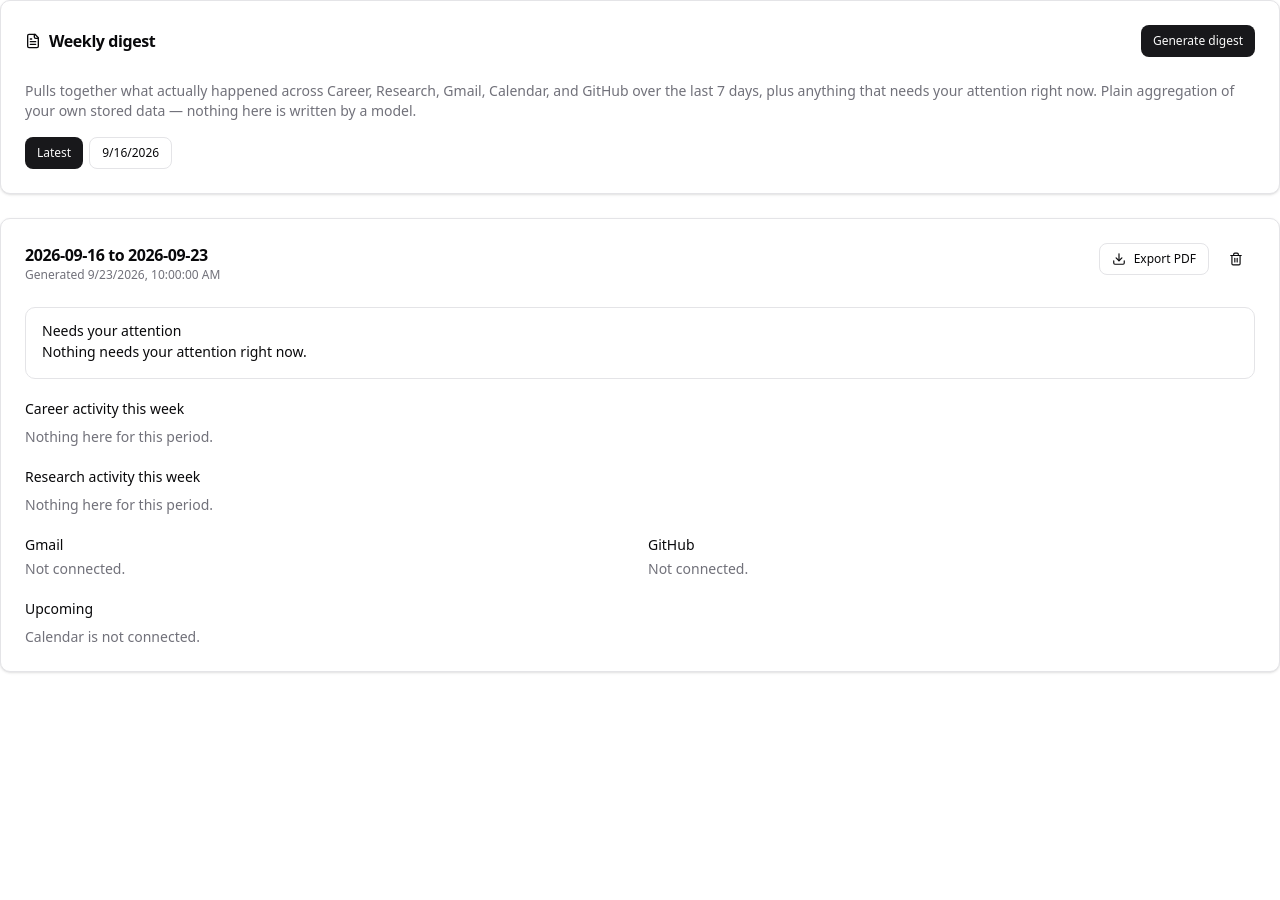
it: DigestPanel › switches between past digests
Check: the button "Latest" is shown, box [25,137,83,169]
Check: the heading "2026-09-16 to 2026-09-23" is shown, box [25,243,220,267]
Click the button "9/16/2026": (131, 153) [89,137,172,169]
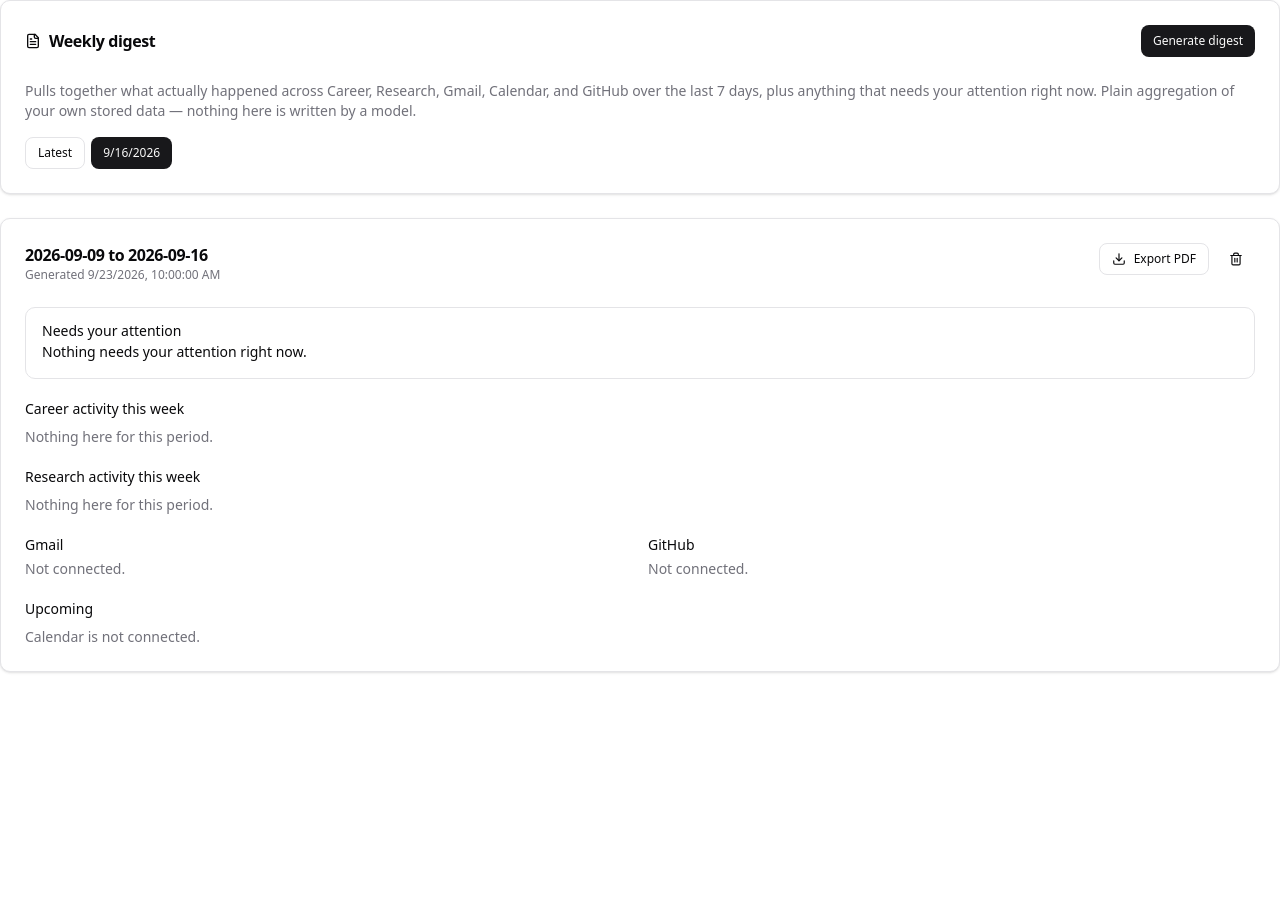
Check: the heading "2026-09-09 to 2026-09-16" is shown, box [25,243,220,267]
